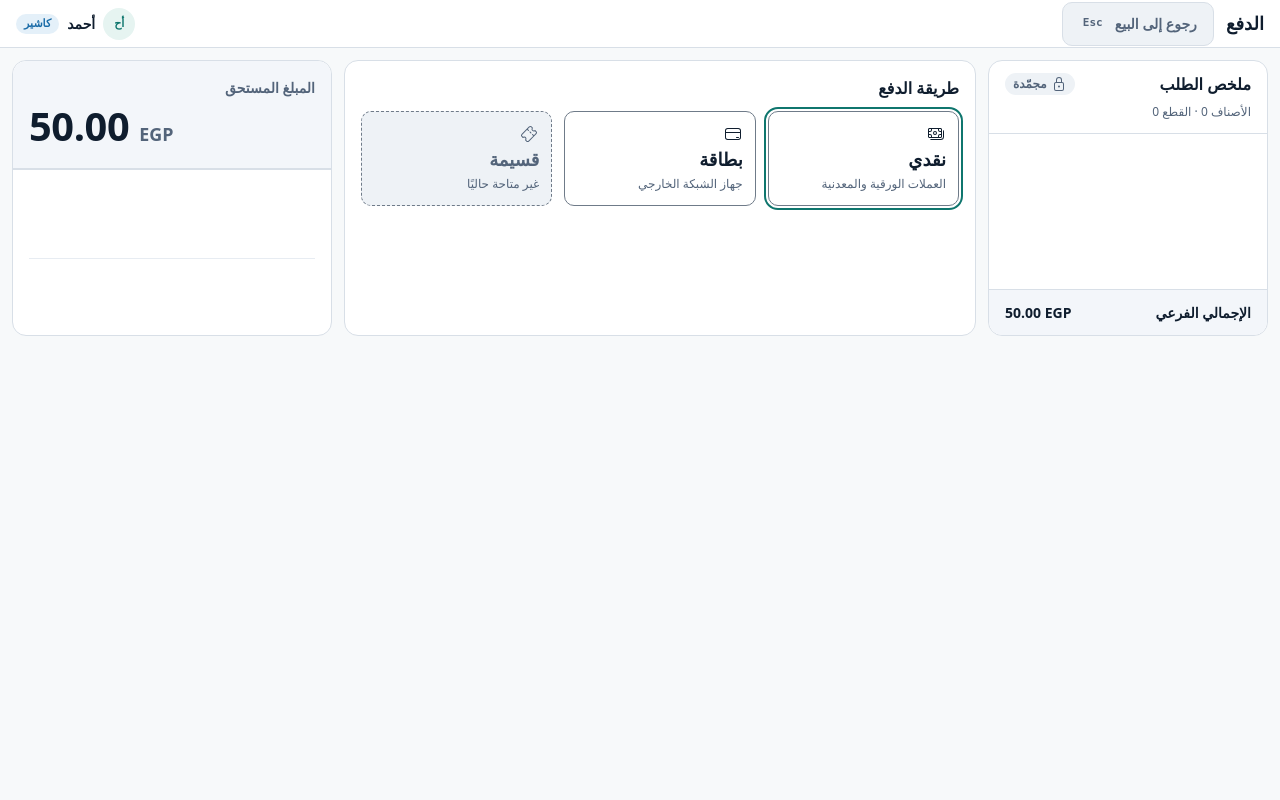
Test: RT-256 — card cancel requires a terminal void before another charge (M-P13) › after a card line is reversed, says to void on the terminal and never «أكمل الدفع أو ألغِه»
Click the radio button with test id "tender-cash". click: click(863, 158)
box: [768,111,959,206]
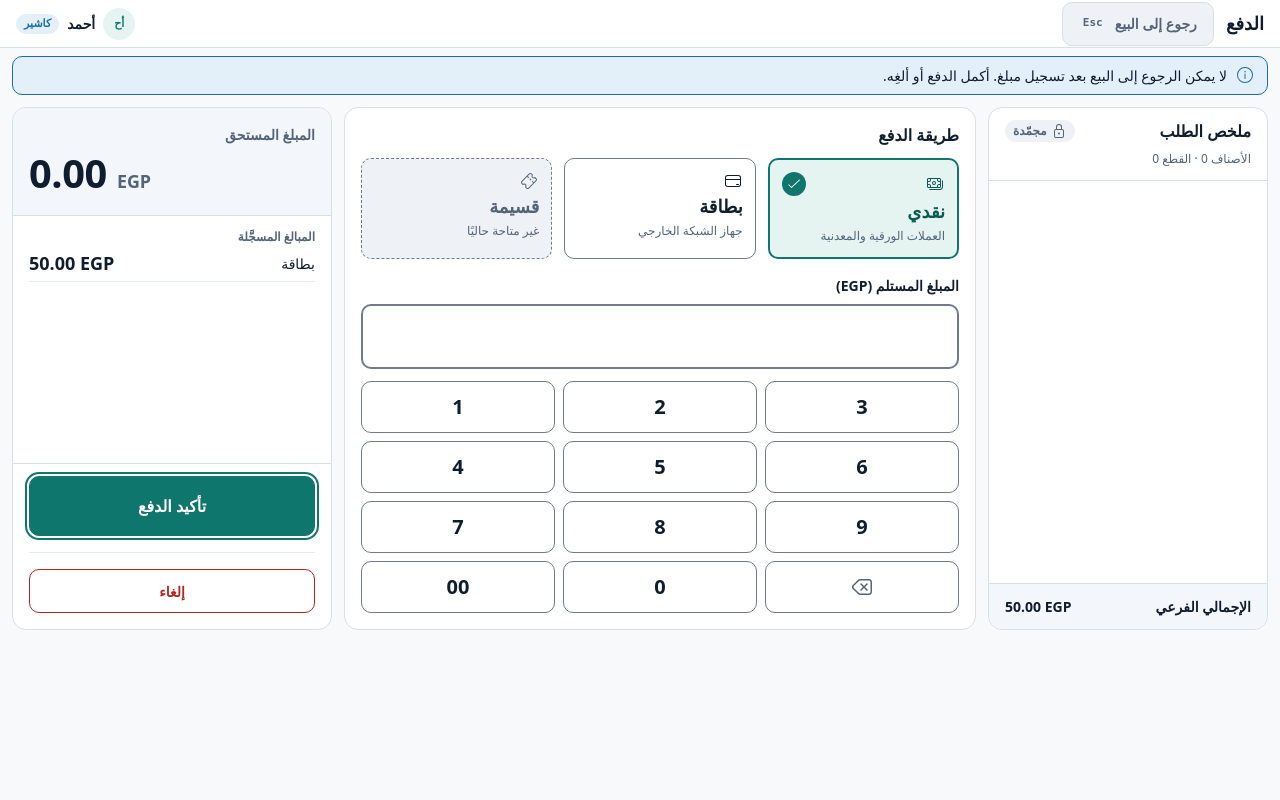
Click the button with test id "payment-surface-cancel". click: click(172, 591)
box: [29,569,315,613]
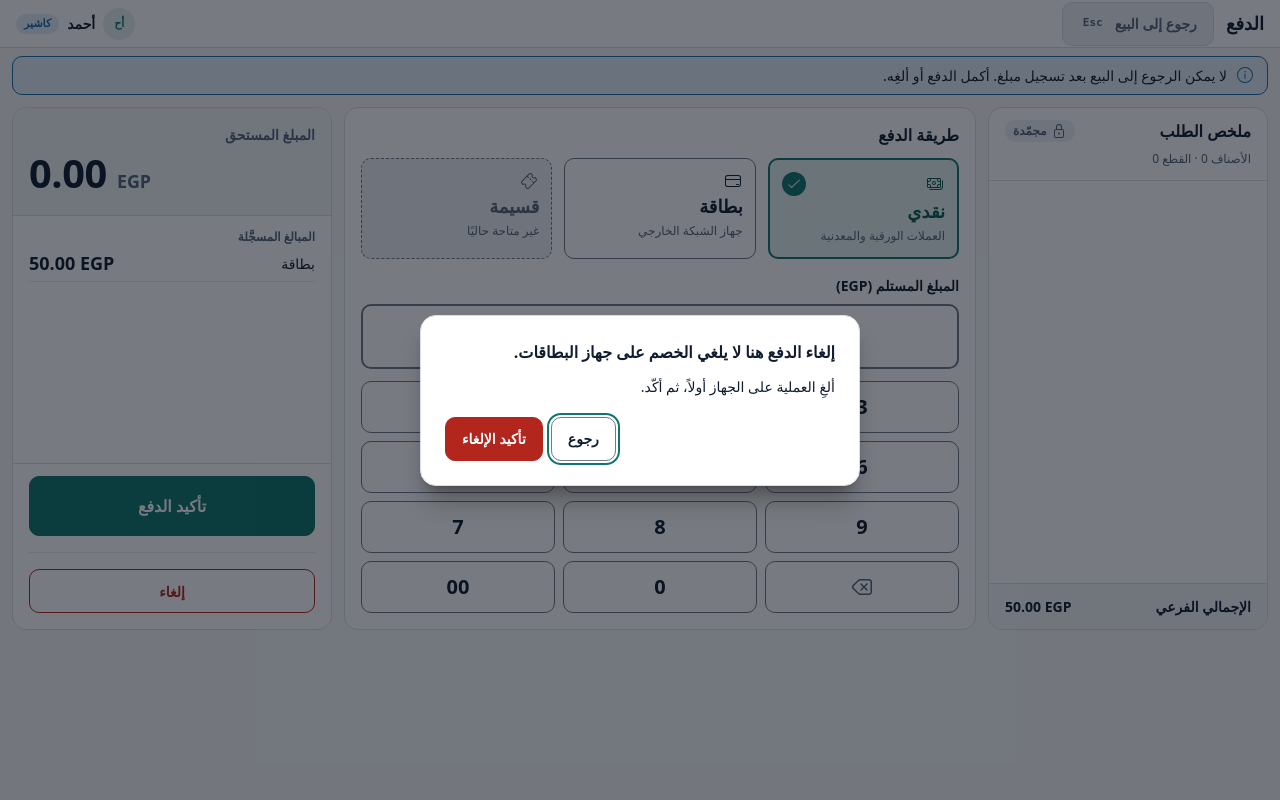
Click the button "تأكيد الإلغاء". click: click(494, 438)
box: [445,416,543,460]
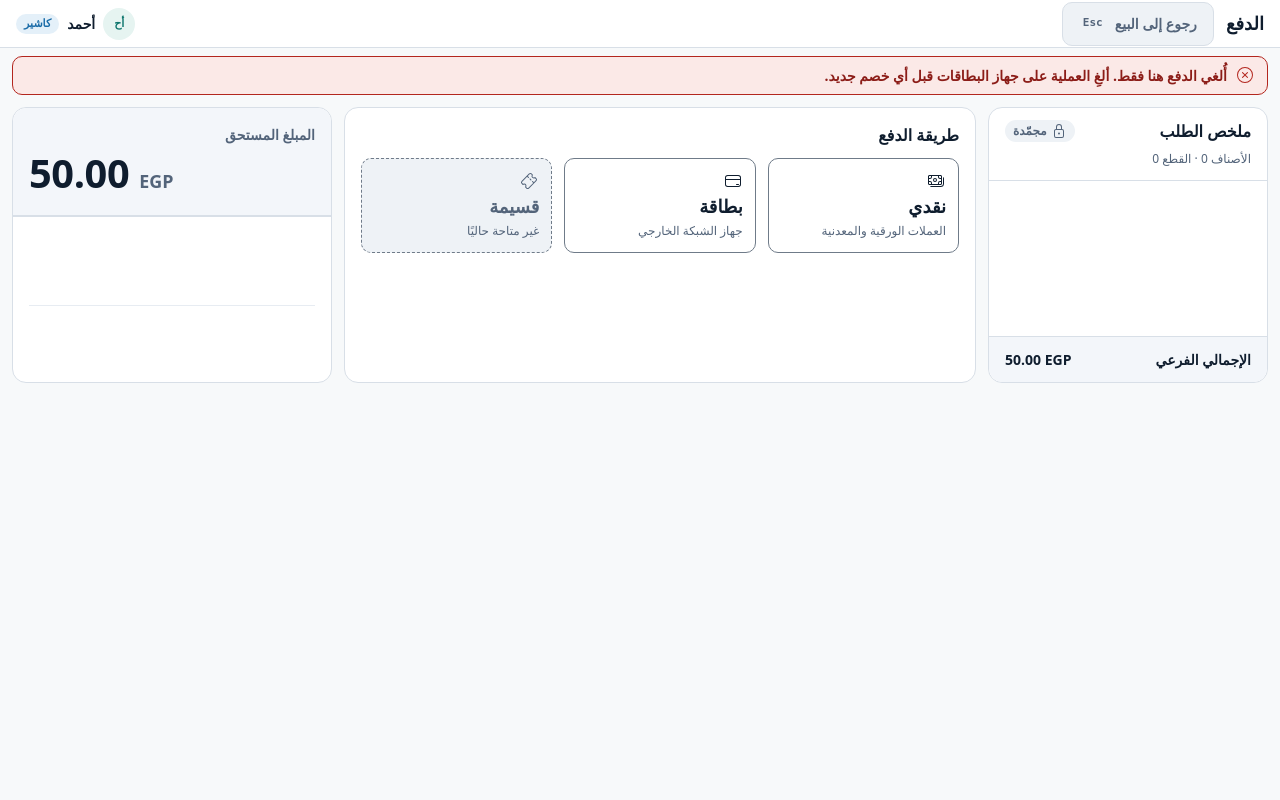
Result: the element with test id "payment-surface-back-blocked" reads "أُلغي الدفع هنا فقط. ألغِ العملية على جهاز البطاقات قبل أي خصم جديد." at [824,66,1227,85]
Result: the element with test id "payment-surface" no longer shows "أكمل الدفع أو ألغِه" at [0,0,1279,395]
